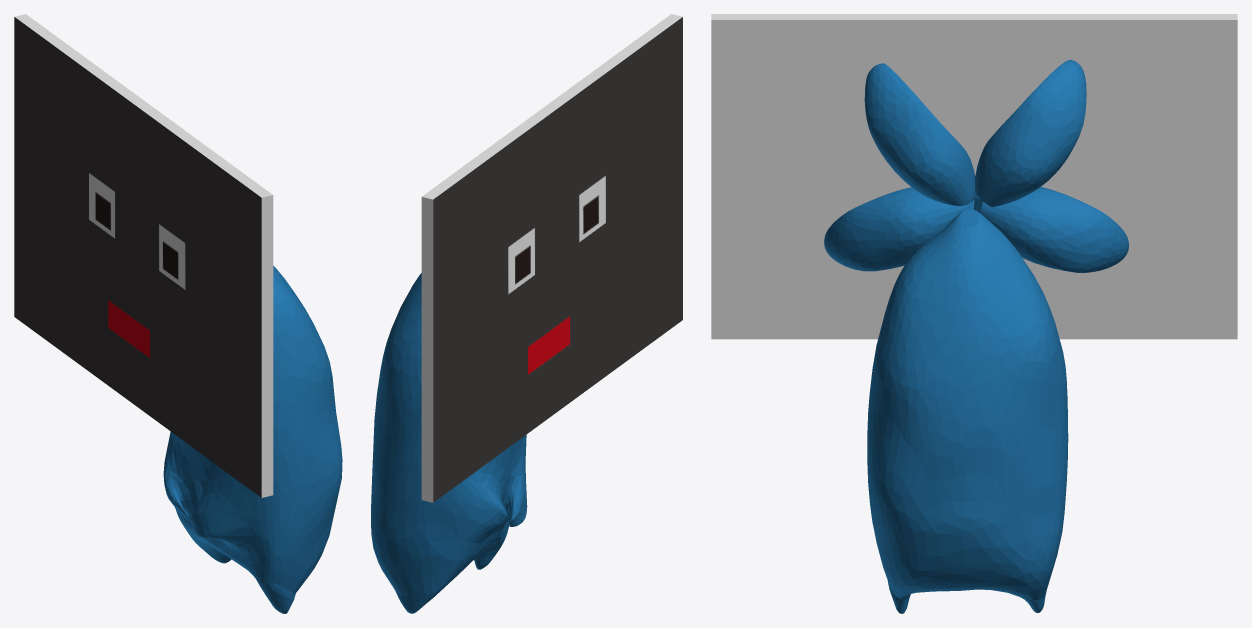
The model's file is PCyamabuki1.glb.
The picture shows the model from 3 angles, left to right: view 1: azimuth 30°, elevation 25°; view 2: azimuth 150°, elevation 25°; view 3: azimuth 270°, elevation 25°; orthographic projection. The views are drawn at different scales.
Parts seen in each view (by area): view 1: 立方体, 球.002; view 2: 立方体, 球.002; view 3: 立方体, 球.002, 円柱.020.
Boxes of the visible parts, bbox=[...] form: 立方体: bbox=[14, 14, 273, 497]; 球.002: bbox=[163, 266, 342, 613]; 立方体: bbox=[421, 14, 682, 502]; 球.002: bbox=[371, 273, 527, 613]; 立方体: bbox=[711, 14, 1237, 339]; 球.002: bbox=[867, 209, 1068, 613]; 円柱.020: bbox=[824, 59, 1128, 272].
Bounding box in the file's own units: 0.9306 × 2.54 × 2.24.
Materials: 3 (1 with a texture image).
